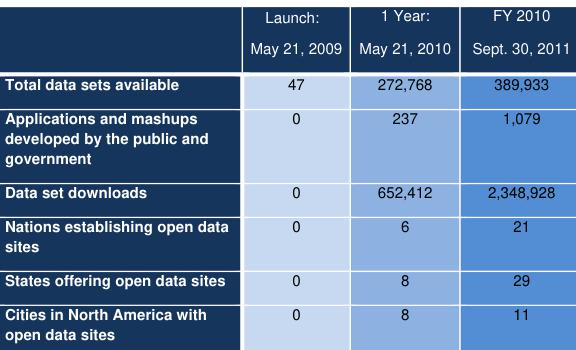table: (3, 3, 570, 343)
table column: (3, 3, 238, 343), (238, 3, 349, 343), (349, 3, 460, 343), (460, 3, 570, 343)
table column header: (3, 3, 570, 65)
table row: (3, 100, 570, 174), (3, 3, 570, 65), (3, 208, 570, 262), (3, 296, 570, 343), (3, 65, 570, 100), (3, 174, 570, 208), (3, 262, 570, 296)
